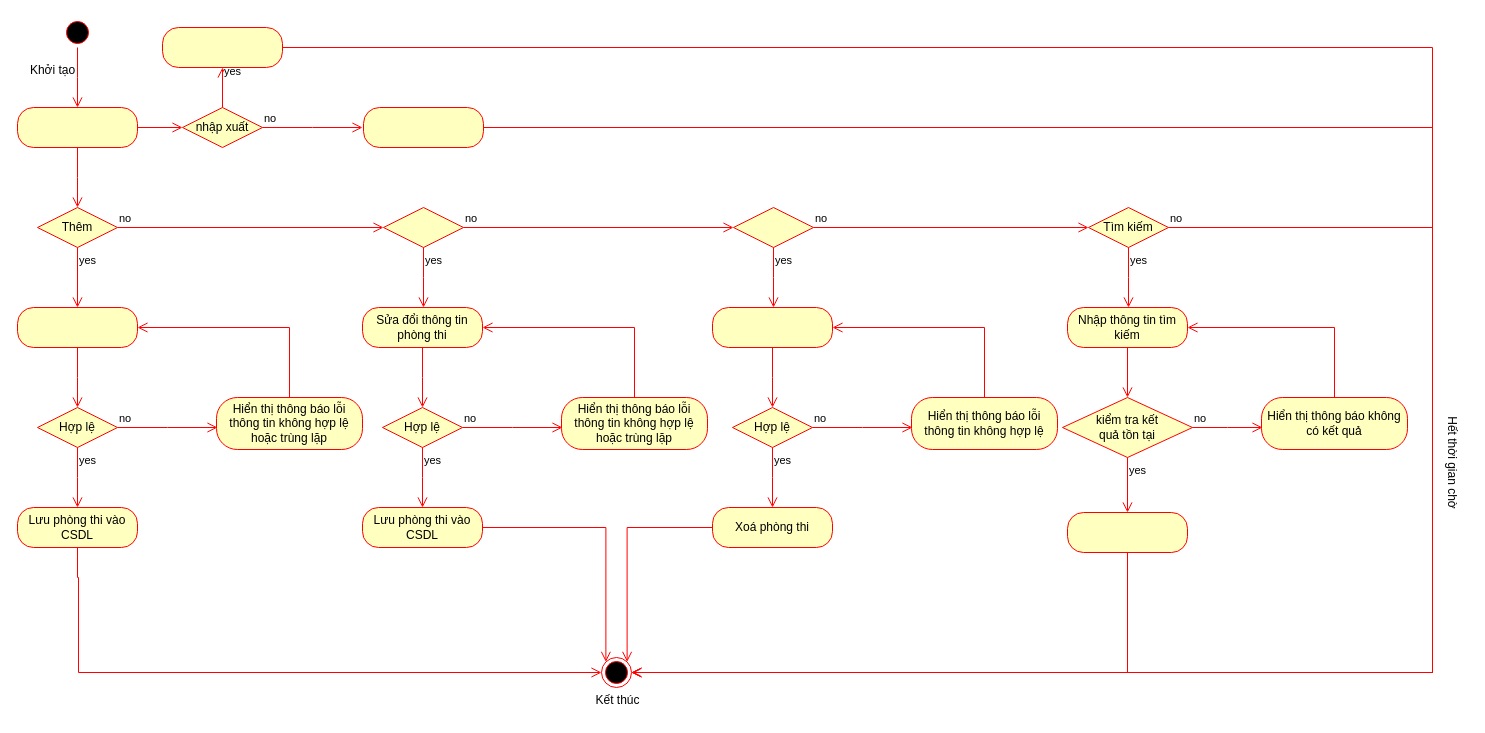
Image size: 1485x733. Some labels were removed from this diagram. Each missing label, with the centre of its shape:
Chọn phòng thi muốn xoá: the point at 772,327
danh sách phòng thi: the point at 77,127
Hiển thị danh sách kết quả: the point at 1127,532
Nhập danh sách: the point at 222,47
Nhập thông tin phòng thi: the point at 77,327
Sửa: the point at 423,227
Xoá: the point at 773,227
Xuất danh sách thí sinh kèm SBD: the point at 423,127
